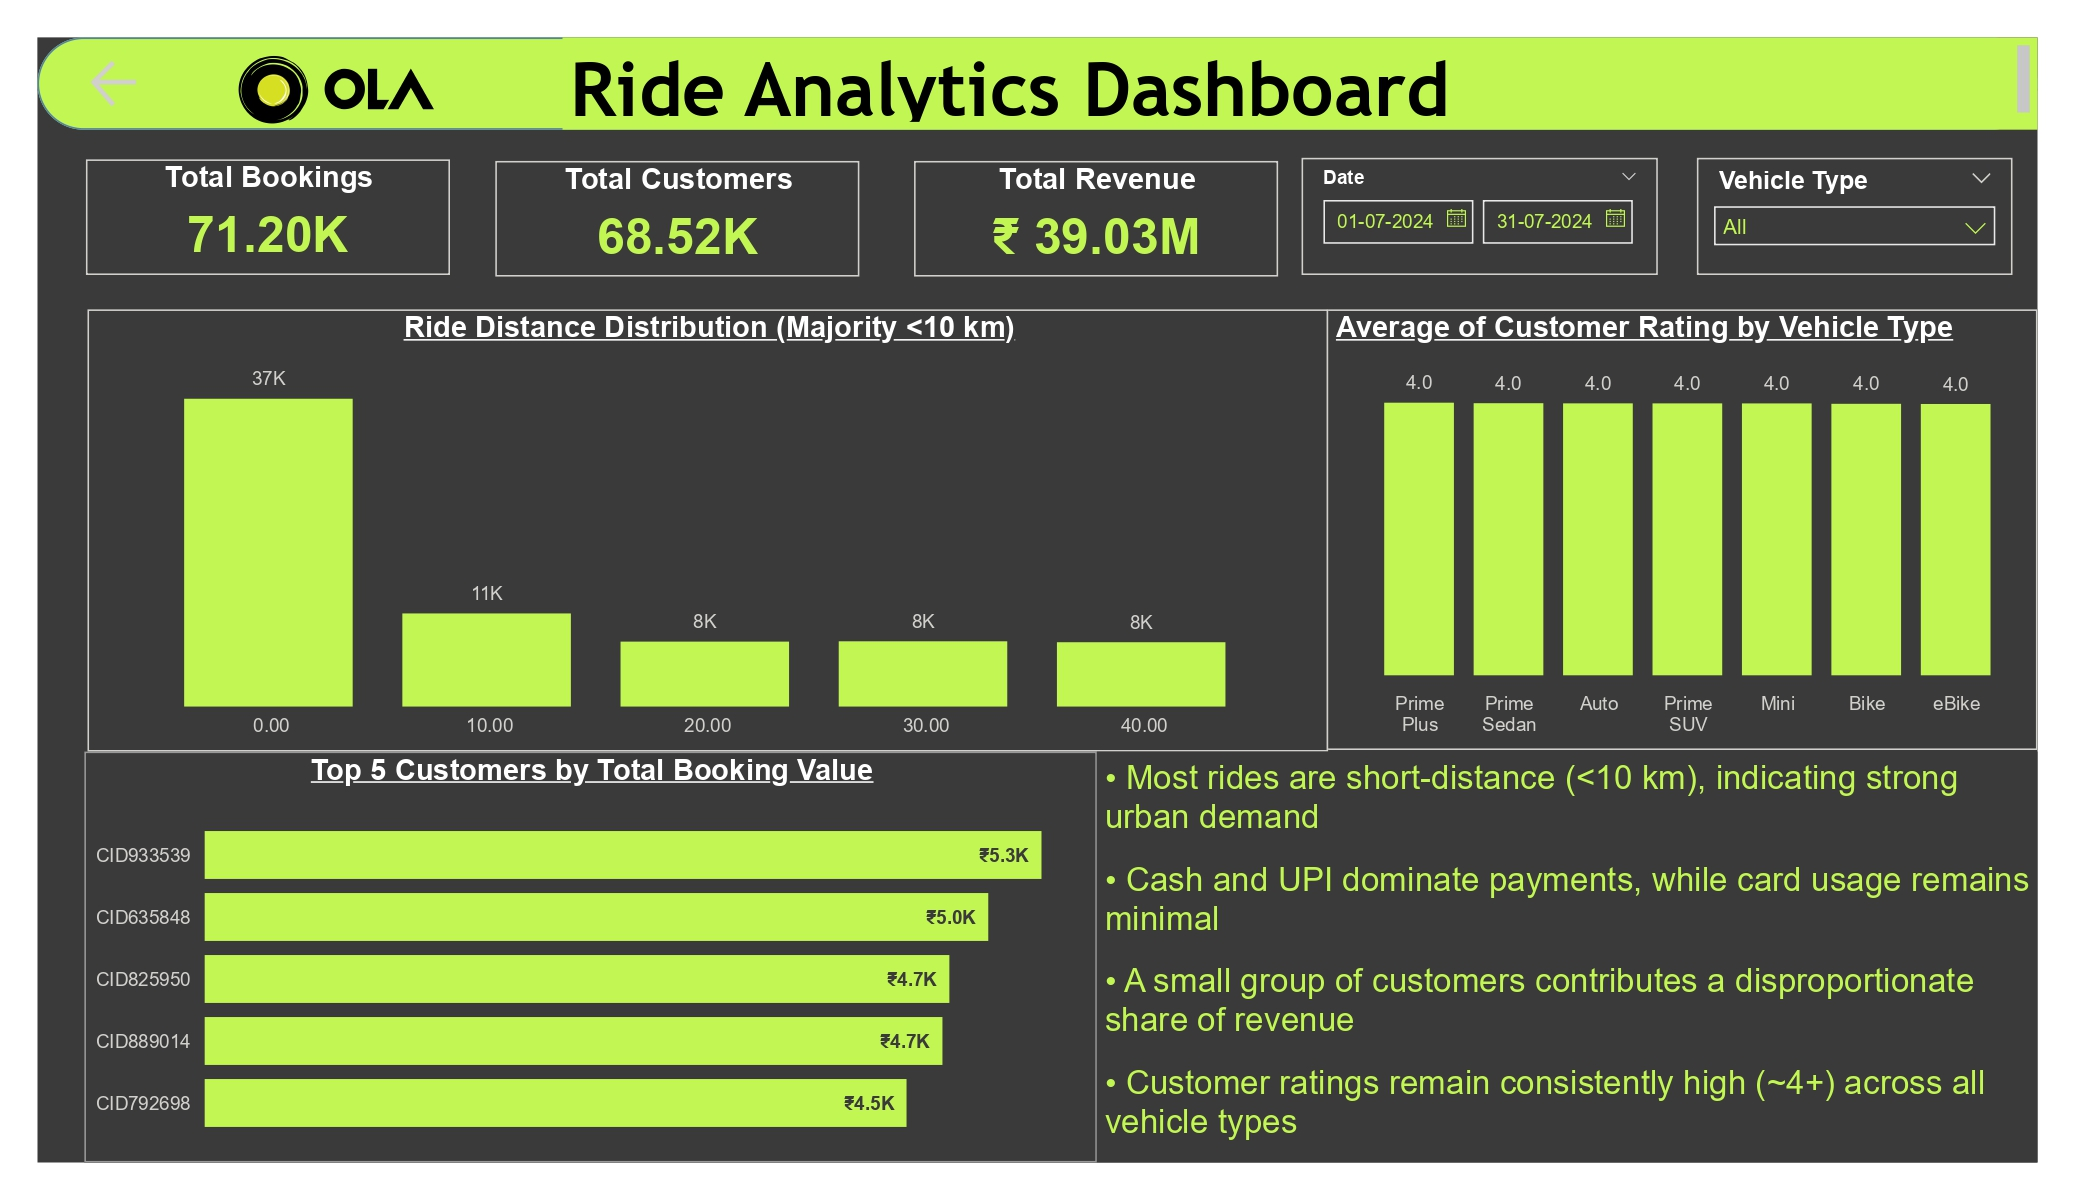

Layout of this report page (visuals, bound fields, positions):
{"tool":"powerbi","page":{"name":"Customer Insights","canvas":[1280,720],"ordinal":1},"visuals":[{"type":"shape","box":[0,0,1280.3,59.2],"z":0},{"type":"image","box":[98.3,0,180.4,59.2],"z":1000},{"type":"barChart","title":"Top 5 Customers by Total Booking Value","fields":{"Y":["Sum(Bookings.Booking_Value)"],"Category":["Bookings.Customer_ID"]},"box":[30.2,456.9,647.7,263.5],"z":2000},{"type":"textbox","box":[336.3,0,943.7,59.2],"z":4000},{"type":"card","title":"Total Bookings","fields":{"Values":["CountNonNull(Bookings.Booking_ID)"]},"box":[31,78.1,232.9,74],"z":5000},{"type":"card","title":"Total Customers","fields":{"Values":["Count(Bookings.Customer_ID)"]},"box":[293.5,79.4,232.9,74],"z":6000},{"type":"card","title":"Total Revenue","fields":{"Values":["Sum(Bookings.Booking_Value)"]},"box":[561.4,79.4,232.9,74],"z":7000},{"type":"slicer","fields":{"Values":["Bookings.Vehicle_Type"]},"box":[1062.2,76.7,201.9,75.4],"z":9000},{"type":"slicer","fields":{"Values":["Bookings.Date"]},"box":[809.1,76.7,227.5,75.4],"z":10000},{"type":"clusteredColumnChart","title":"Average of Customer Rating by Vehicle Type","fields":{"Category":["Bookings.Vehicle_Type"],"Y":["Avg(Bookings.Customer_Rating)"]},"box":[825,173.7,455,282.7],"z":11000},{"type":"clusteredColumnChart","title":"Ride Distance Distribution (Majority <10 km)","fields":{"Category":["Bookings.Ride_Distance (bins)"],"Y":["CountNonNull(Bookings.Booking_ID)"]},"box":[31.6,174.3,794.5,282.7],"z":12000},{"type":"textbox","box":[677.9,456.9,602.4,263.5],"z":12001},{"type":"actionButton","box":[30.2,9.6,100.2,39.8],"z":12002}]}

Visuals, with their boxes on the page's 1280x720 design canvas (x1, y1, x2, y2). These are canvas units, not pixel positions in the 2075x1200 screenshot, which may show the page scaled, cropped or inside an application window:
shape: [0, 0, 1280, 59]
image: [98, 0, 279, 59]
"Top 5 Customers by Total Booking Value" barChart: [30, 457, 678, 720]
textbox: [336, 0, 1280, 59]
"Total Bookings" card: [31, 78, 264, 152]
"Total Customers" card: [294, 79, 526, 153]
"Total Revenue" card: [561, 79, 794, 153]
slicer - Bookings.Vehicle_Type: [1062, 77, 1264, 152]
slicer - Bookings.Date: [809, 77, 1037, 152]
"Average of Customer Rating by Vehicle Type" clusteredColumnChart: [825, 174, 1280, 456]
"Ride Distance Distribution (Majority <10 km)" clusteredColumnChart: [32, 174, 826, 457]
textbox: [678, 457, 1280, 720]
actionButton: [30, 10, 130, 49]
